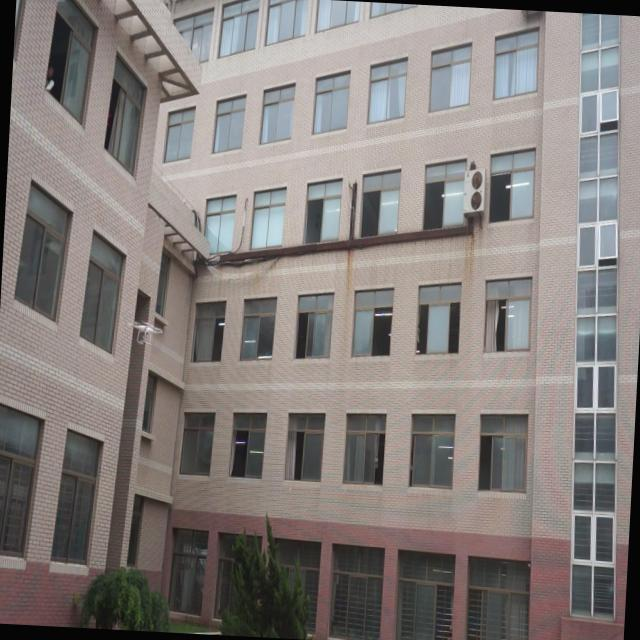drone: (124, 318, 168, 347)
